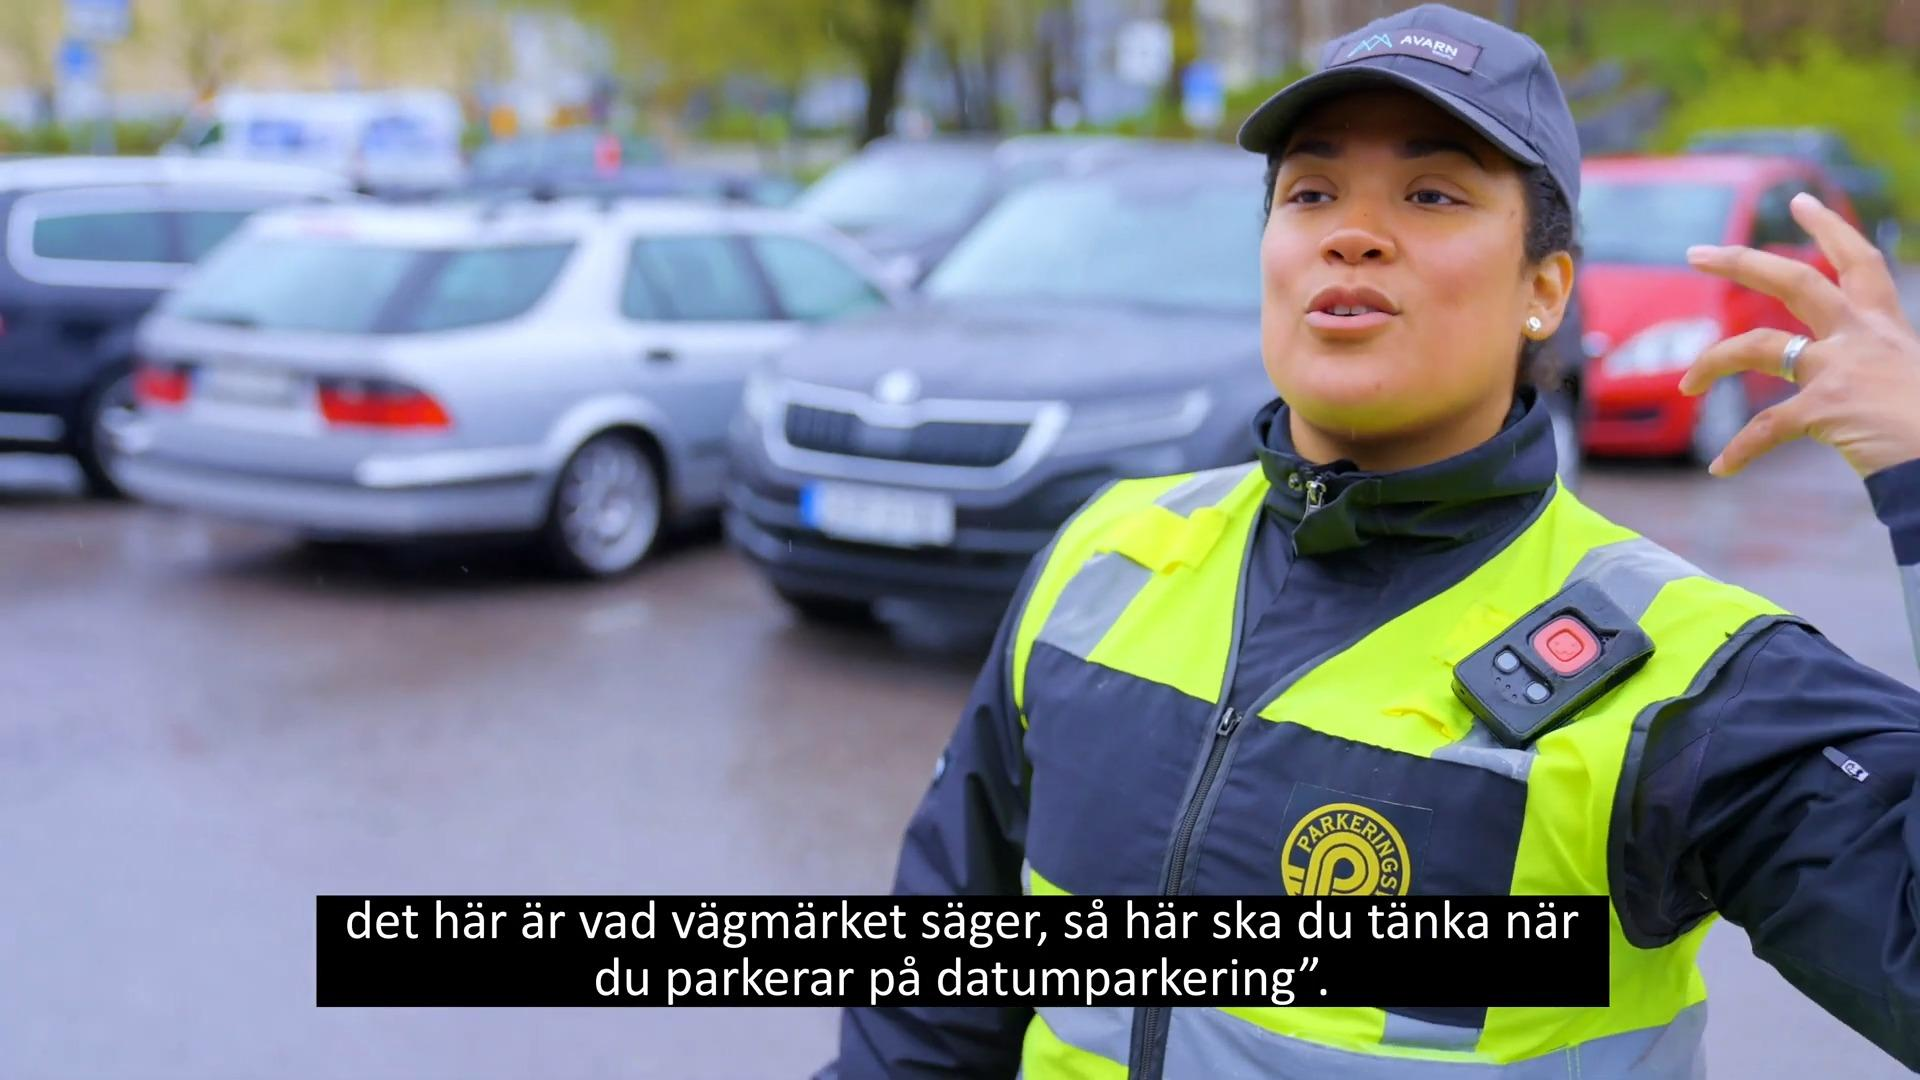parking-attendant: (818, 5, 1919, 1079)
